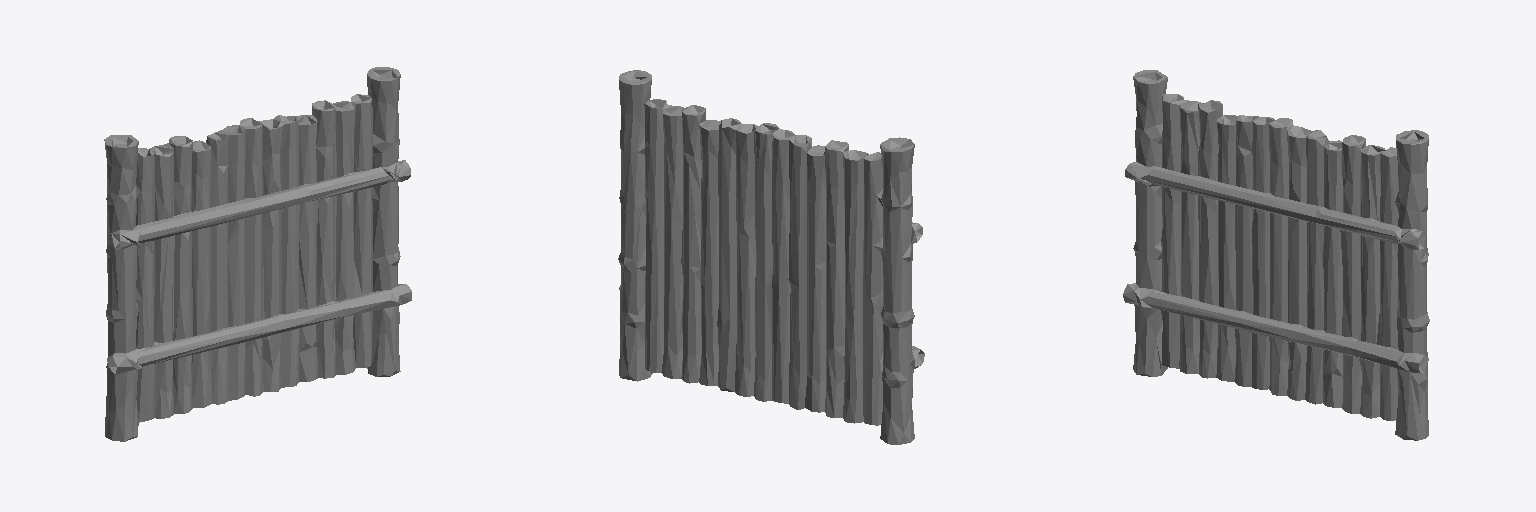
Rendered from Bamboowall.obj.
3 renders of one model, left to right at view 1: azimuth 30°, elevation 25°; view 2: azimuth 150°, elevation 25°; view 3: azimuth 330°, elevation 25°, orthographic.
Parts seen in each view (by area): view 1: Group34816; view 2: Group34816; view 3: Group34816.
Boxes of the visible parts, <box> form: Group34816: <box>104,67,411,441</box>; Group34816: <box>618,70,924,444</box>; Group34816: <box>1123,70,1429,440</box>.
Size of the model in its own units: 5.38 by 5.16 by 0.7201.